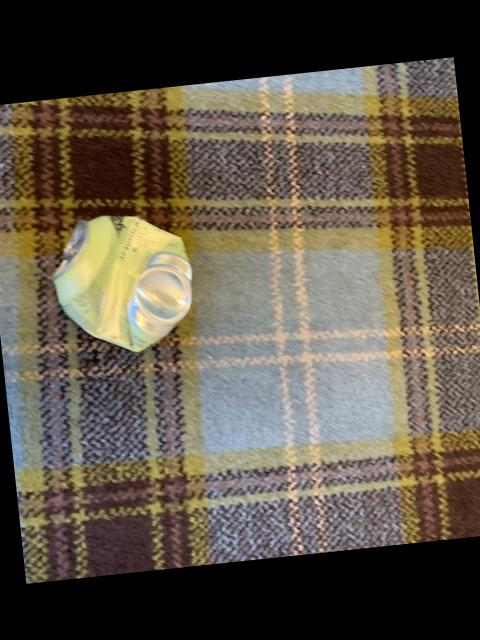metal: (52, 214, 190, 349)
